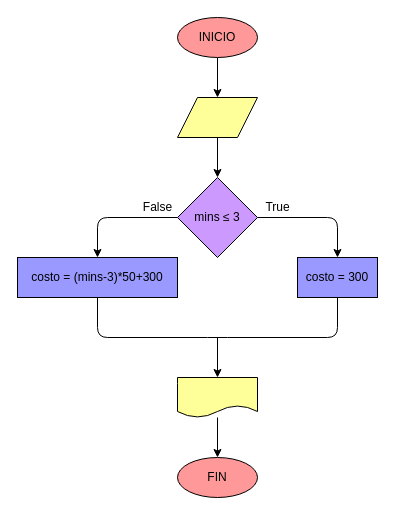
This 395x515 diagram has some shape labels left out. The shapes that lost their labels are listed below. From the top down, each one's centre as x and y in pixels, then its label:
At point (217, 117): "mins".
At point (217, 397): "costo".
